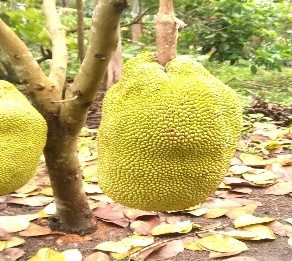Mit: (97, 52, 243, 211)
